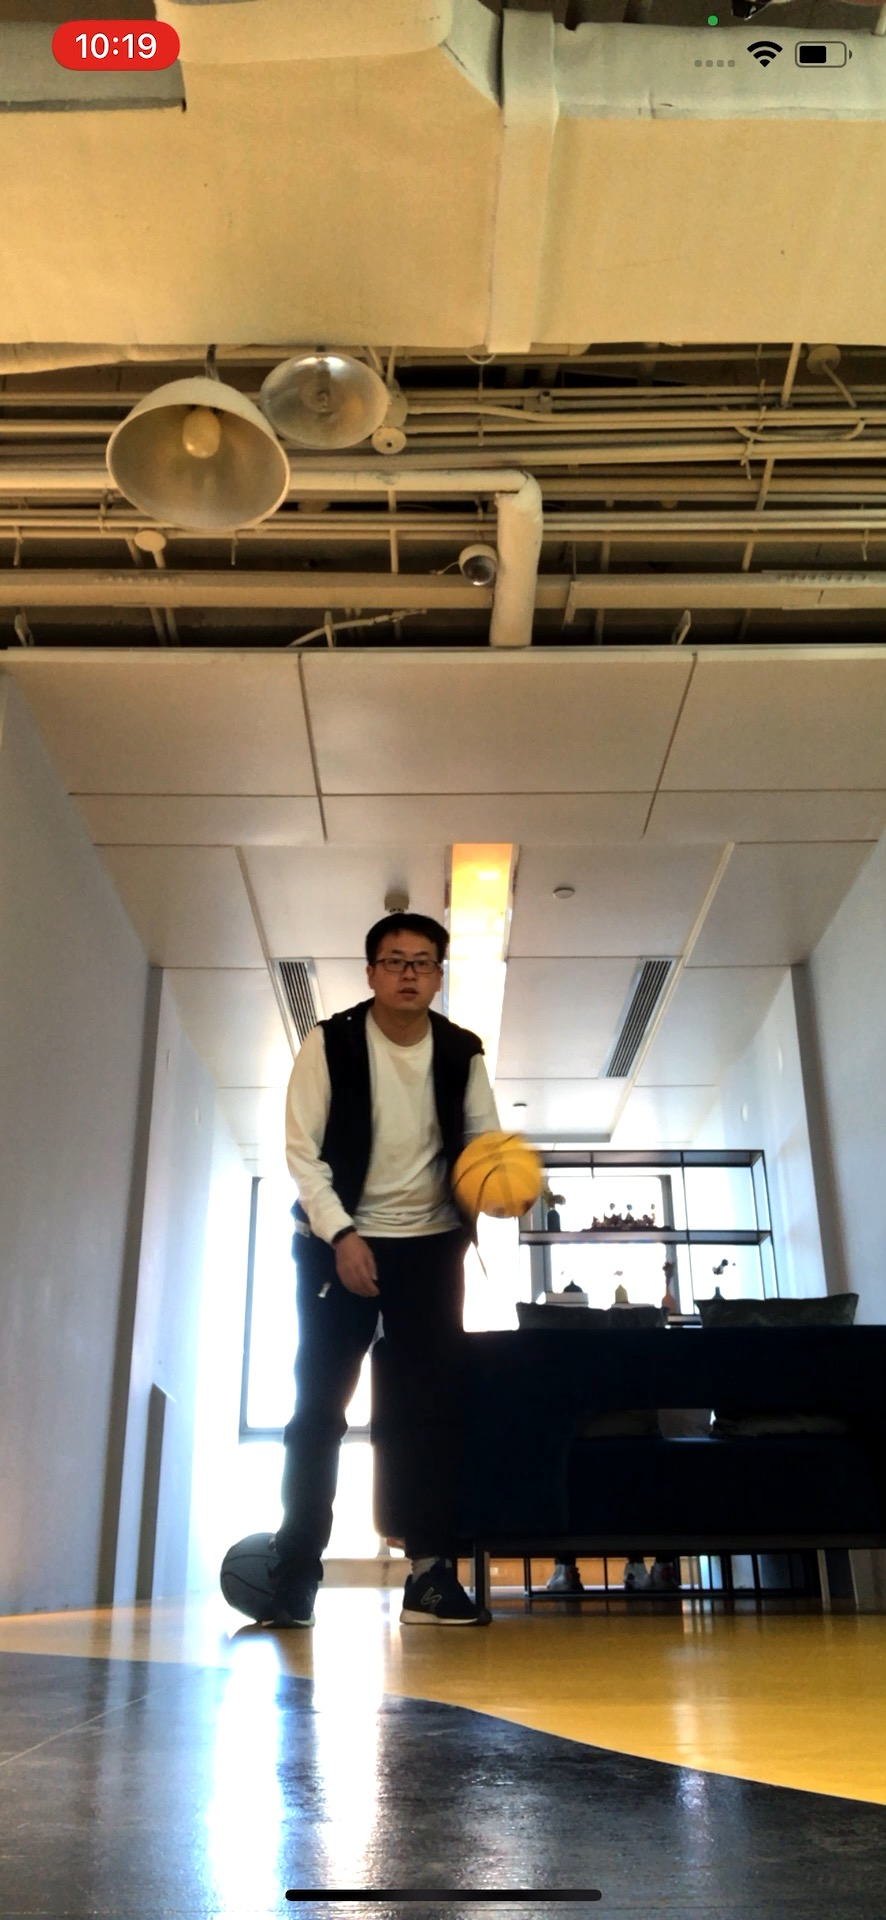ball: (456, 1131, 547, 1224), (223, 1529, 284, 1622)
